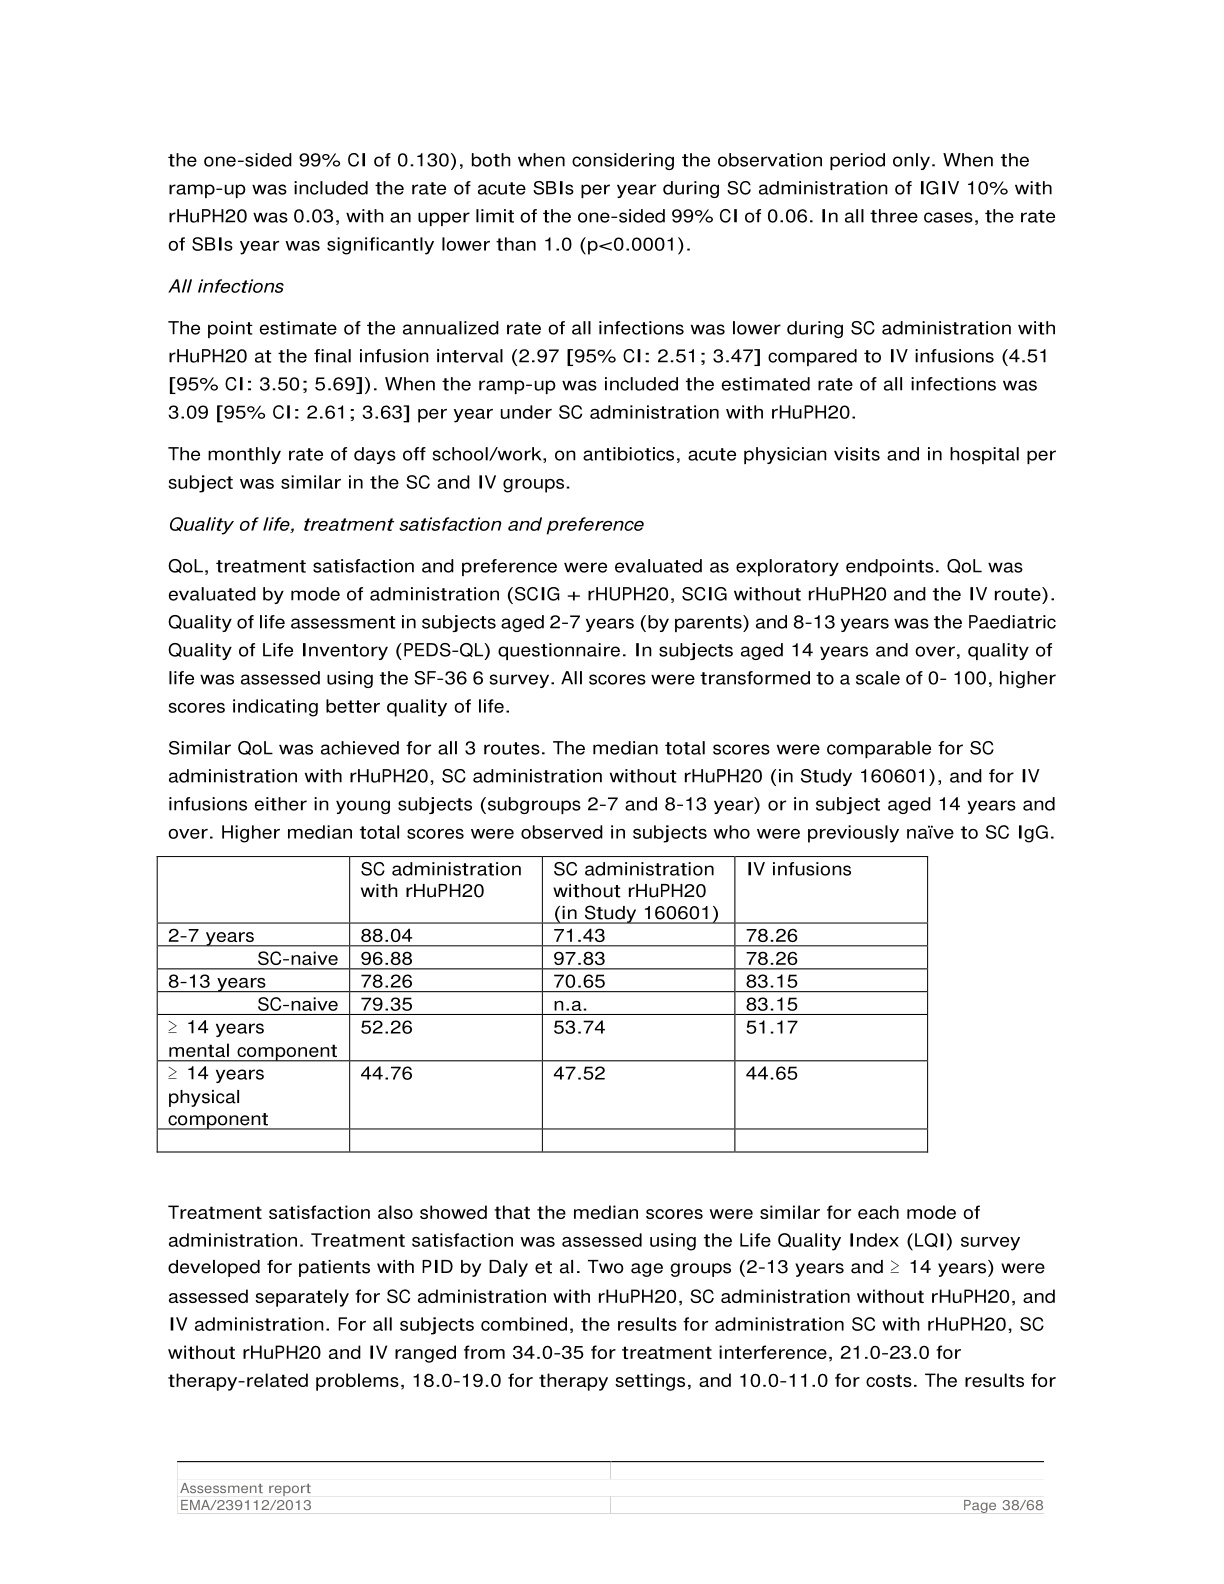full_lined: (150, 852, 933, 1160)
